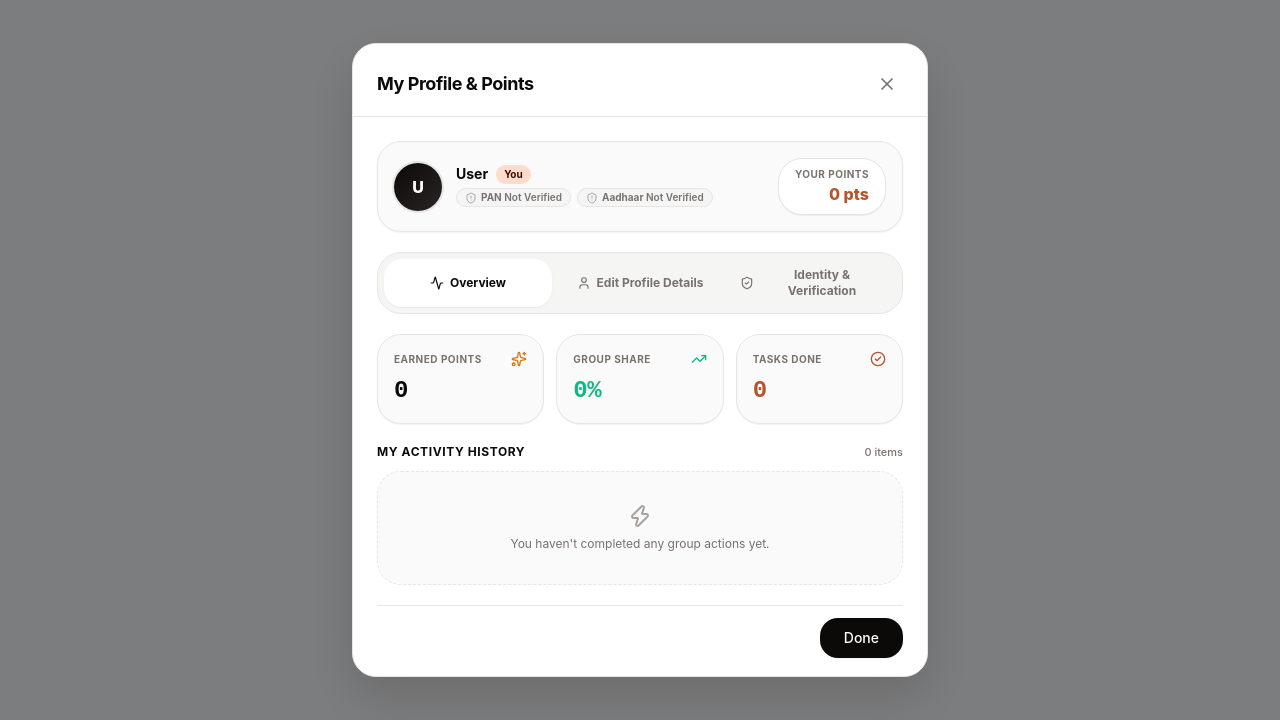
Test: ProfileModal Identity & Verification Tab › allows navigating to Identity & Verification tab with DigiLocker and Credit sections
Click the button "Identity & Verification".
click(812, 283)  # box [728, 259, 896, 307]
(page scrolled)
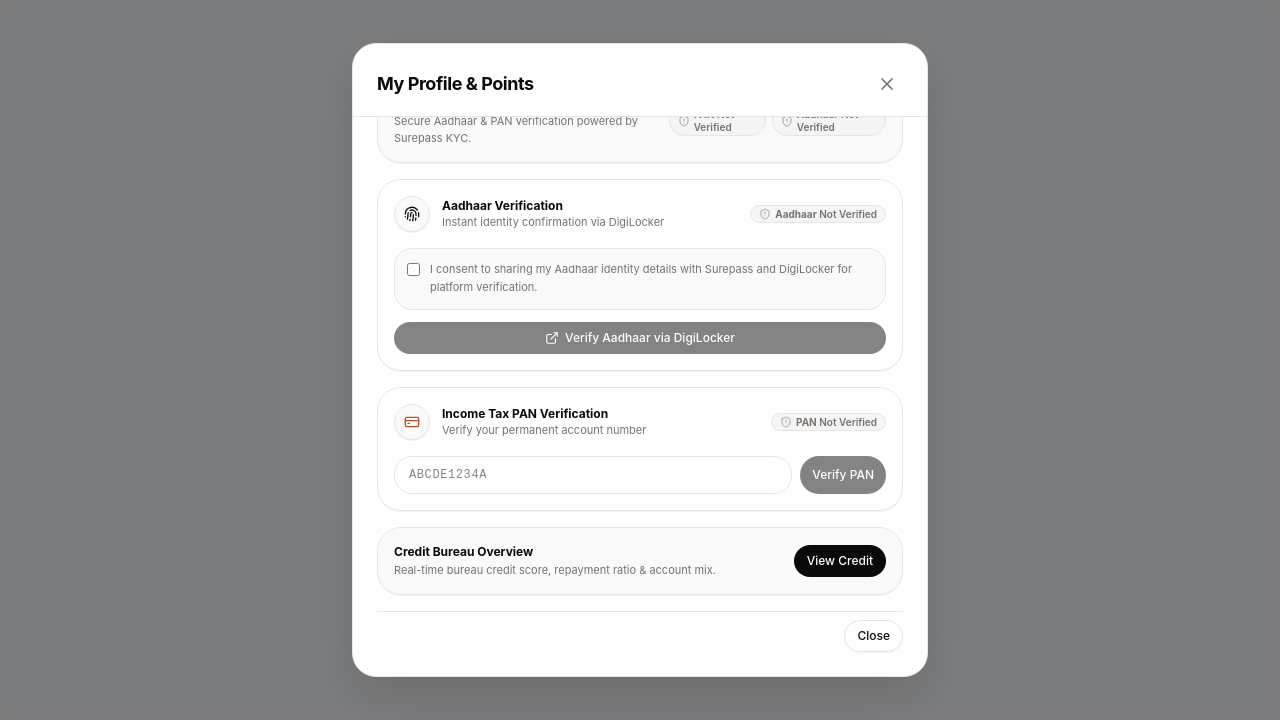
Result: the button "Verify Aadhaar via DigiLocker" is shown at [394, 322, 886, 354]
Result: the heading "Credit Bureau Overview" is shown at [394, 544, 533, 559]
Result: the button "View Credit" is shown at [794, 545, 886, 577]
